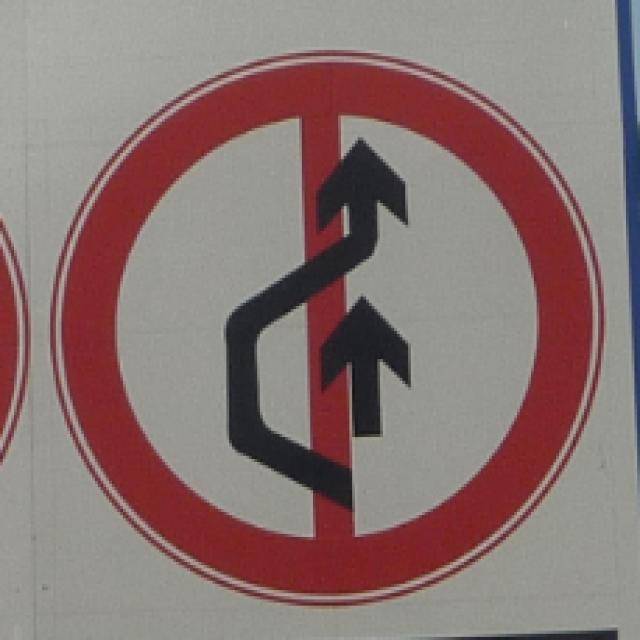Not that Direction: (41, 36, 614, 602)
